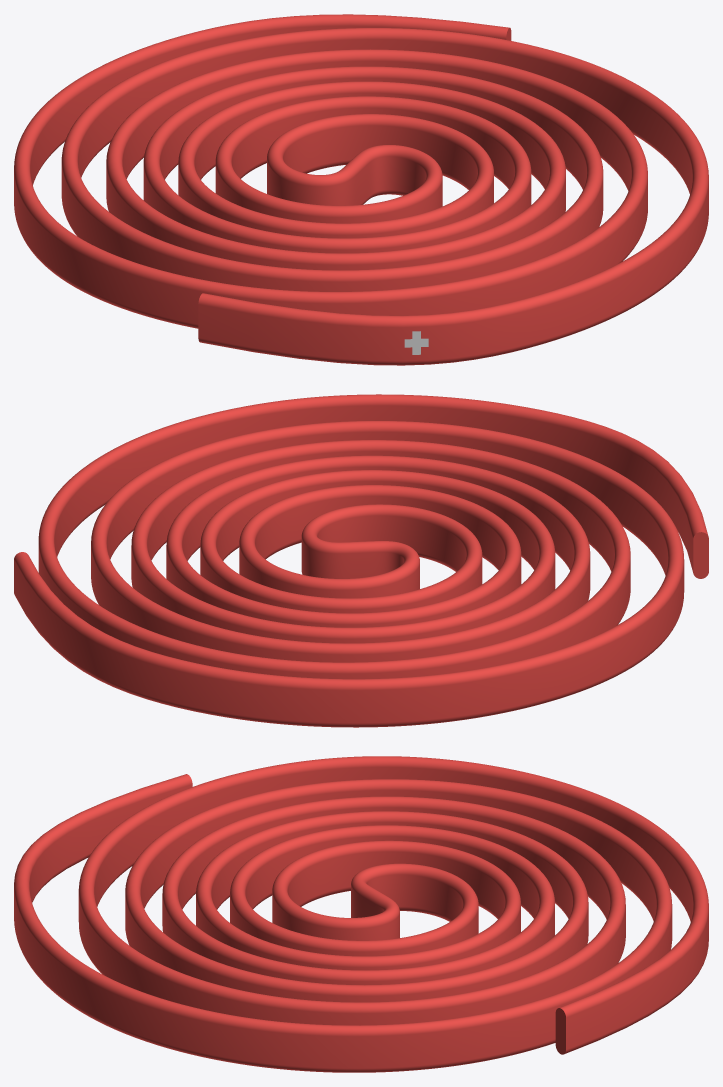
The model's file is жгут.fbx.
3 renders of one model, top to bottom at view 1: azimuth 30°, elevation 25°; view 2: azimuth 150°, elevation 25°; view 3: azimuth 270°, elevation 25°, orthographic. The views are drawn at different scales.
Parts seen in each view (by area): view 1: ТраекторияNurbs; view 2: ТраекторияNurbs; view 3: ТраекторияNurbs.
Boxes of the visible parts, x1,y1,x2,y2 form: ТраекторияNurbs: (14, 14, 708, 365); ТраекторияNurbs: (14, 394, 708, 727); ТраекторияNurbs: (14, 756, 708, 1072).
Size of the model in its own units: 33.55 by 2.6 by 35.72.
